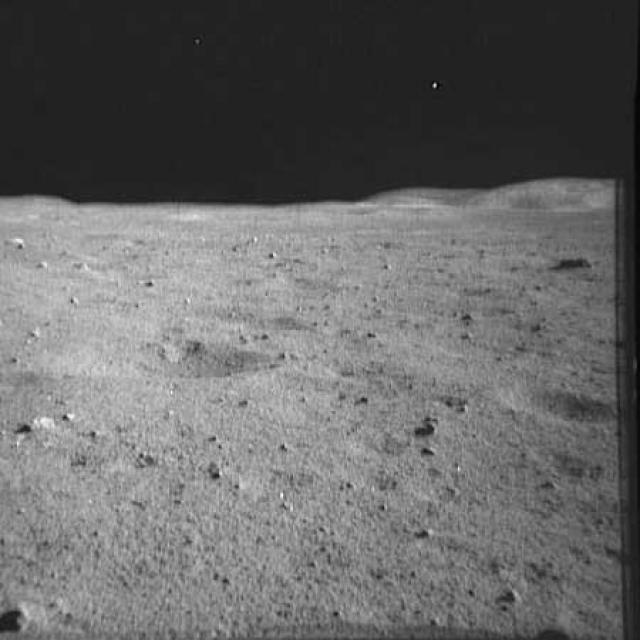crater: (0, 332, 286, 397), (500, 376, 620, 438)
rock: (3, 591, 60, 636), (498, 580, 530, 606), (20, 416, 57, 437), (414, 414, 446, 438)
